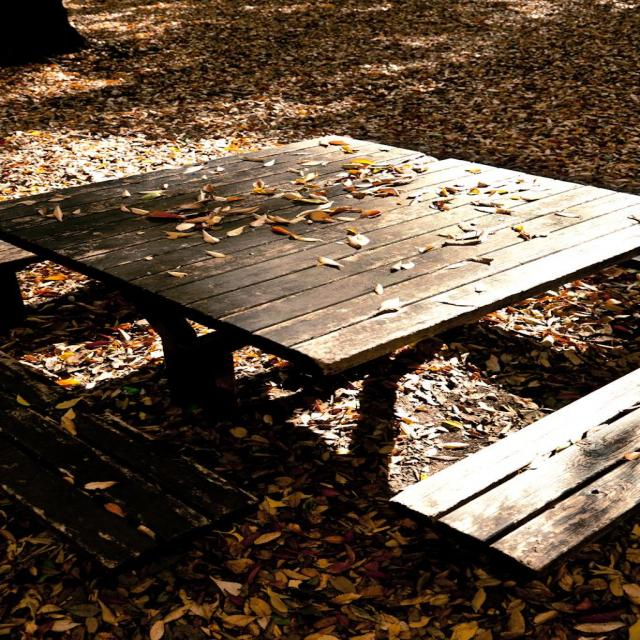Table: (16, 122, 640, 403)
